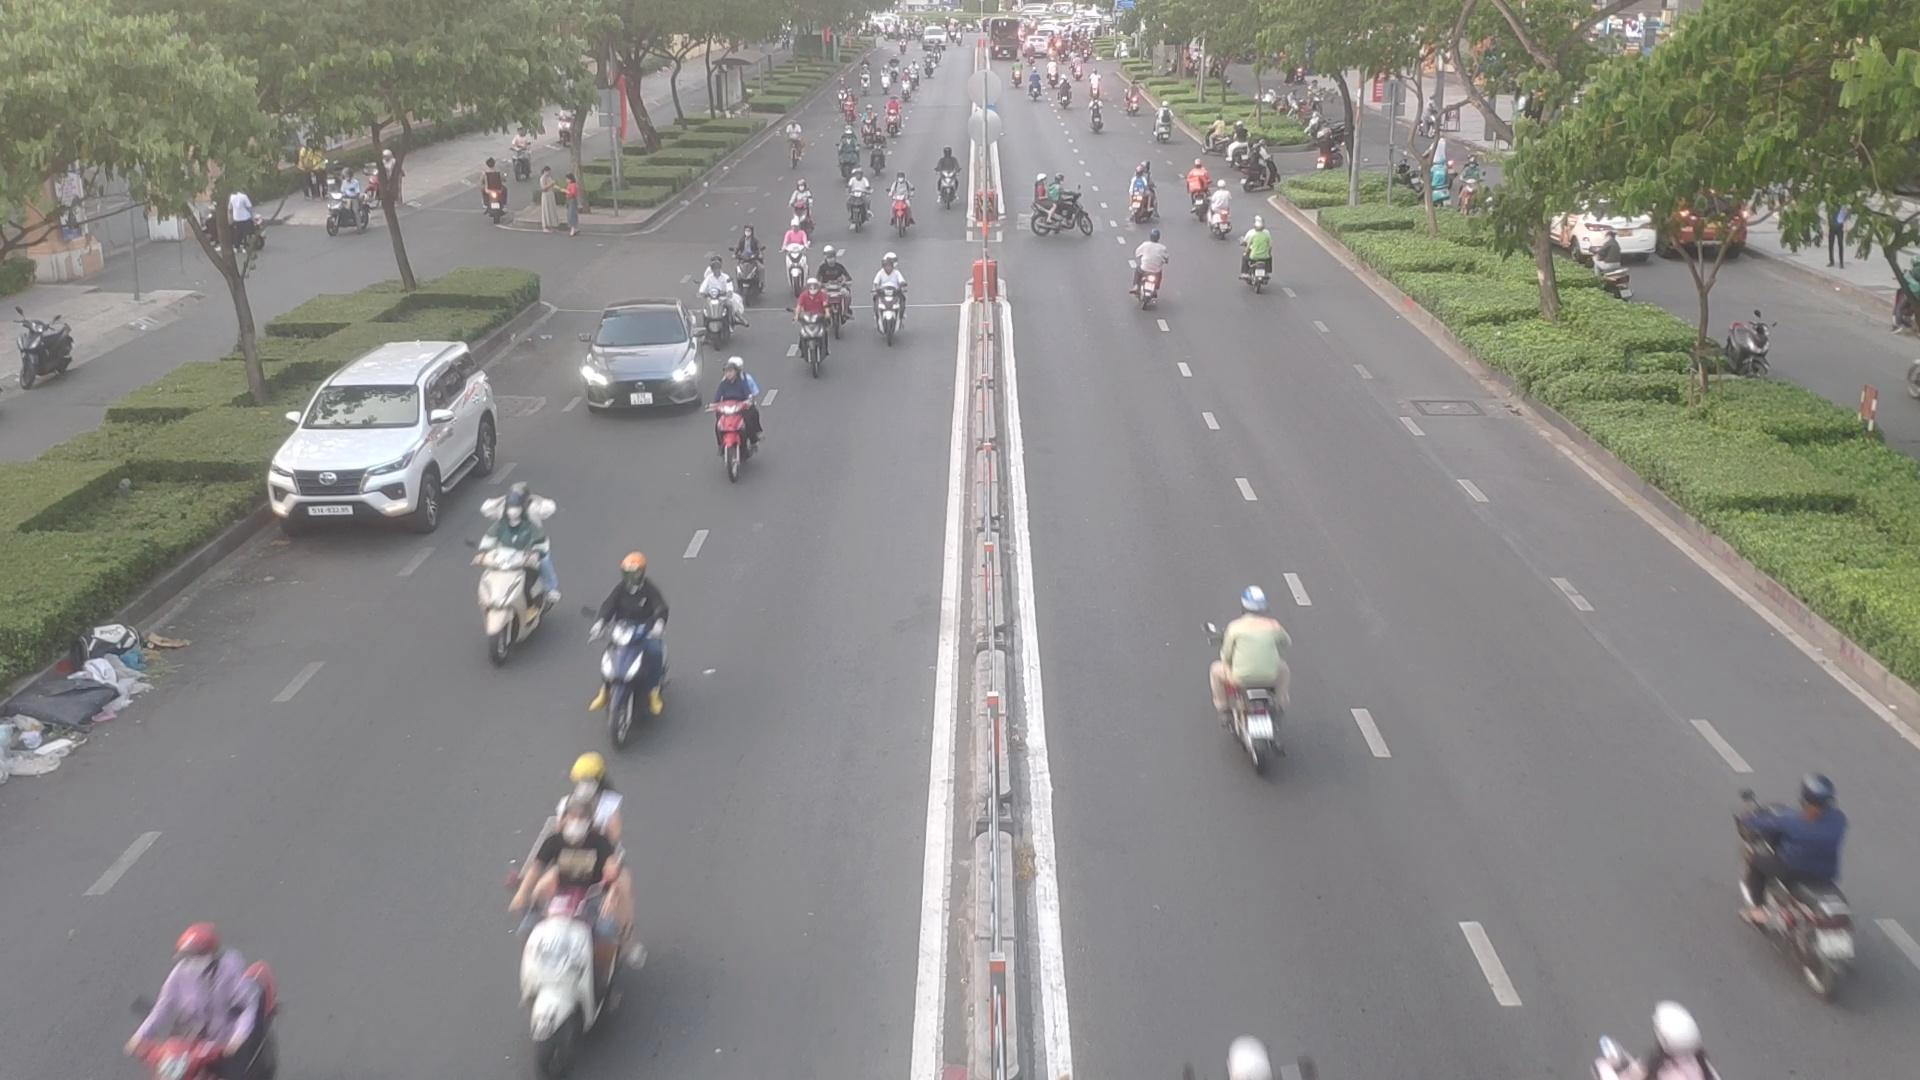car: (272, 343, 514, 531), (574, 302, 708, 411)
motorbike: (512, 804, 640, 1072), (1733, 773, 1857, 998), (123, 926, 281, 1080), (463, 477, 556, 661), (1201, 599, 1299, 769), (591, 549, 678, 733), (1588, 1001, 1727, 1080), (699, 357, 764, 476), (1026, 175, 1098, 244), (865, 258, 913, 348), (696, 266, 749, 344), (1127, 237, 1174, 311), (1236, 220, 1283, 291), (727, 233, 767, 298), (796, 280, 822, 382), (827, 245, 855, 336), (1129, 167, 1166, 223), (783, 225, 815, 286), (930, 153, 960, 214), (884, 179, 915, 237), (844, 170, 874, 228), (1205, 179, 1234, 240), (790, 179, 823, 229), (1185, 165, 1213, 218), (835, 127, 856, 179), (870, 128, 885, 175)
